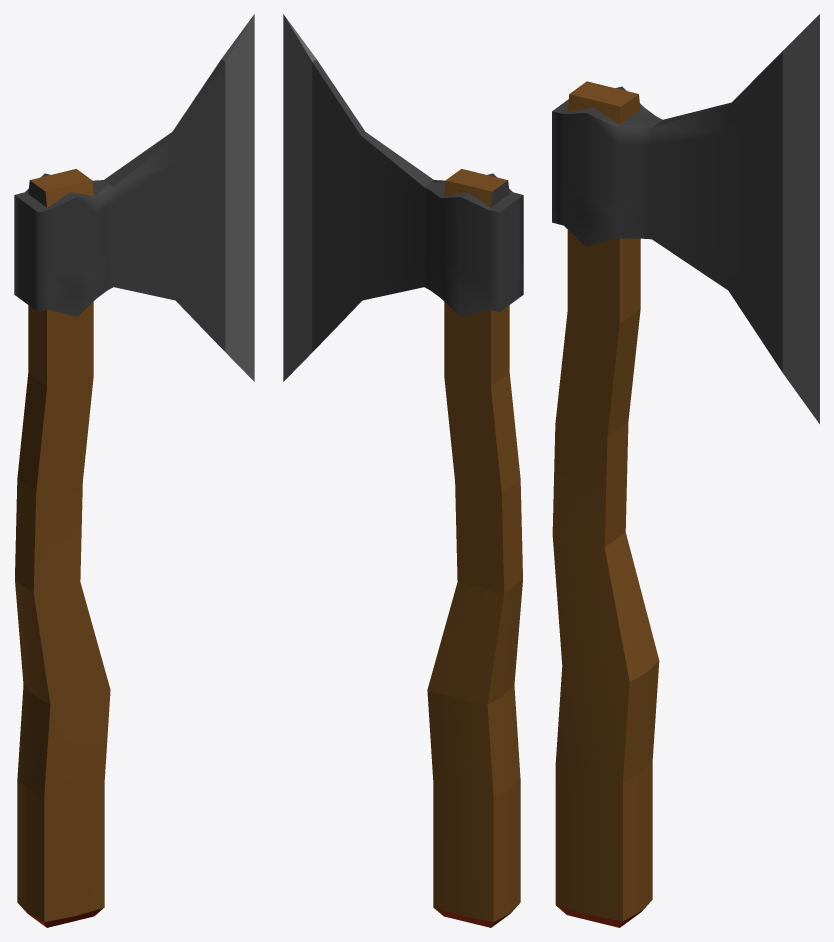
Rendered from Axe_Aref.fbx.
3 views of the same model, side by side, from view 1: azimuth 30°, elevation 25°; view 2: azimuth 150°, elevation 25°; view 3: azimuth 330°, elevation 25° (orthographic). The views are drawn at different scales.
Visible parts, largest first — view 1: Plane; view 2: Plane; view 3: Plane.
Part boxes in pixels (box(x1,y1,x2,y2)): Plane: box(14, 14, 254, 927); Plane: box(283, 14, 523, 927); Plane: box(552, 14, 819, 927).
Size of the model in its own units: 106 by 376 by 25.84.
